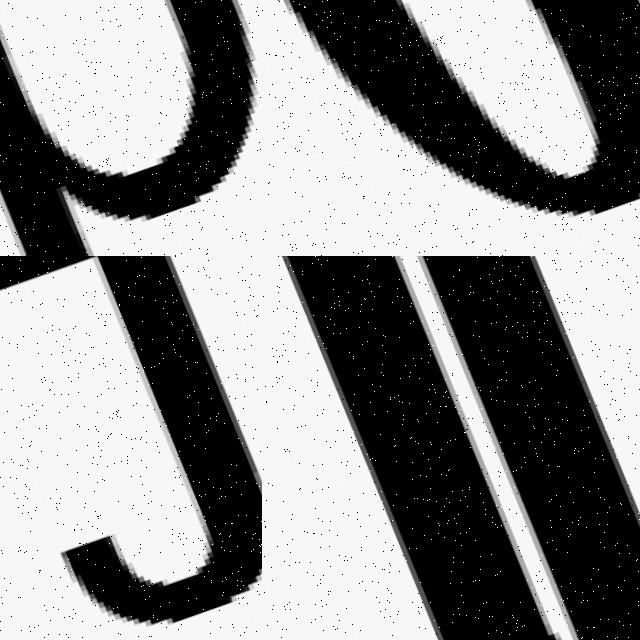0: (262, 0, 640, 256)
G: (0, 0, 262, 256)
T: (0, 256, 262, 640)
U: (262, 256, 640, 640)
